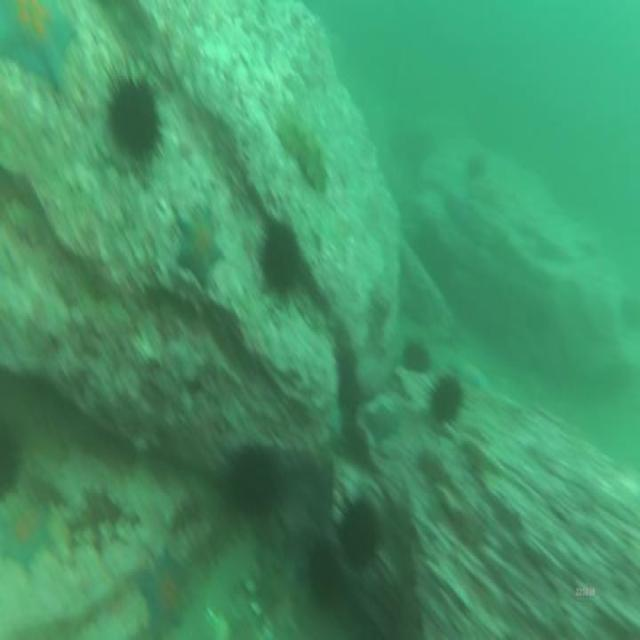echinus: (102, 52, 166, 179), (228, 439, 286, 523), (333, 487, 385, 580), (255, 215, 305, 300), (305, 532, 345, 616), (424, 370, 468, 431), (0, 412, 24, 498), (398, 335, 435, 378), (465, 150, 488, 182)
holothurian: (277, 108, 330, 198)
starfish: (0, 0, 80, 101), (133, 540, 191, 636), (170, 202, 226, 296), (0, 497, 60, 575)
